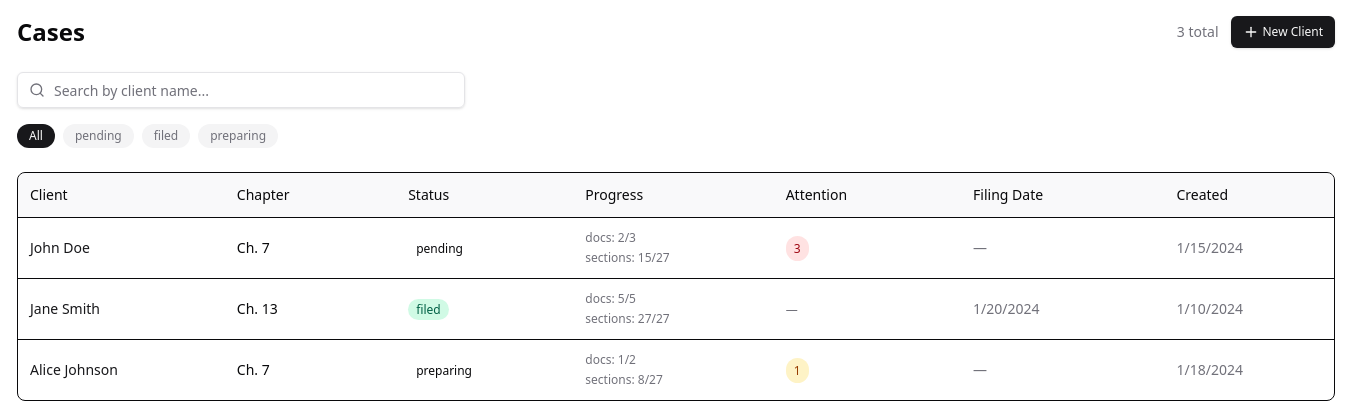
Test case: StaffDashboard › should combine search and filtering
expect the link "John Doe" is shown: met, box [30,238,90,257]
// Search for "J"
In the field labelled "Search by client name...": x=241, y=90 [17,72,465,108], type "J"
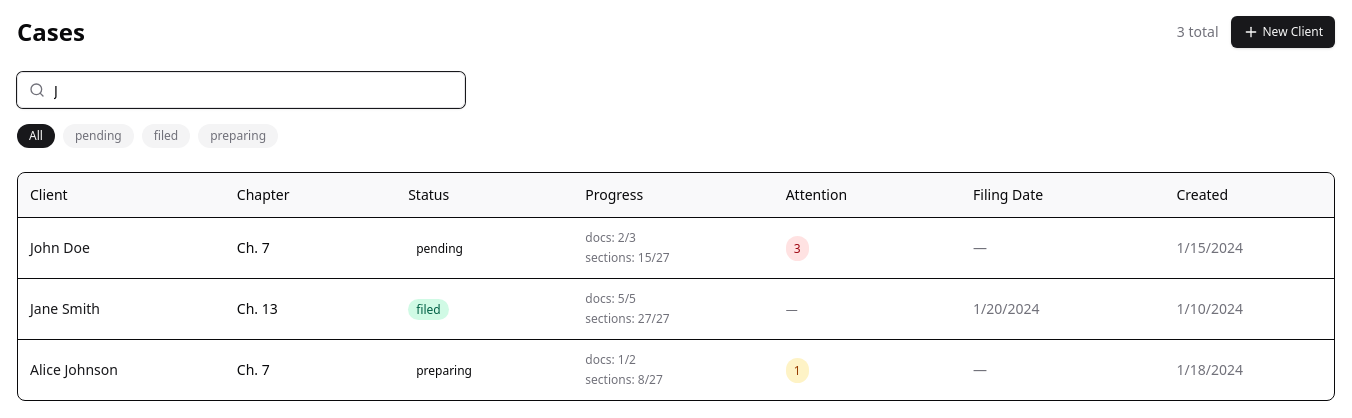
expect the link "John Doe" is shown: met, box [30,238,90,257]
expect the link "Jane Smith" is shown: met, box [30,299,100,318]
Click the button "filed": x=166, y=136 [142,124,190,148]
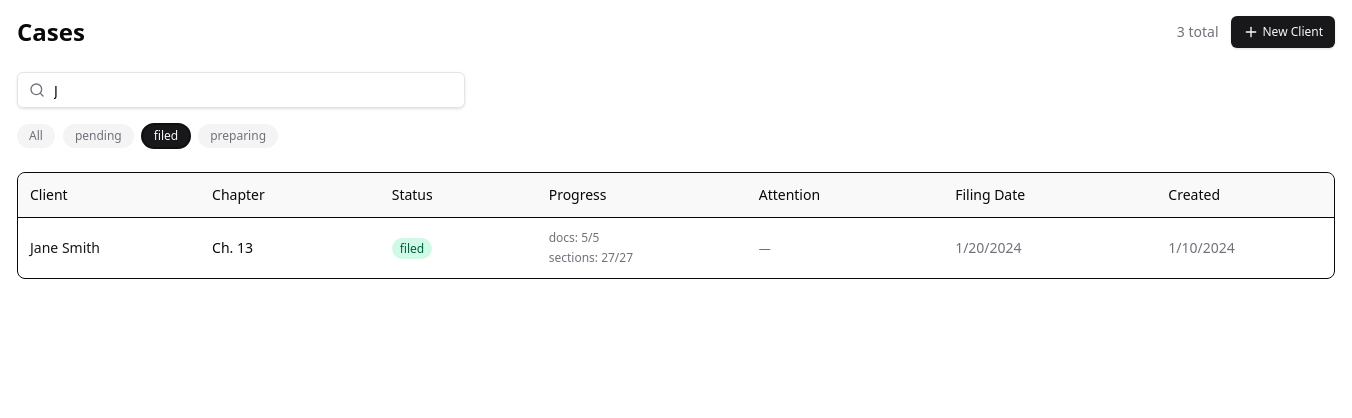
expect the link "Jane Smith" is shown: met, box [30,238,100,257]
expect the link "John Doe" is gone: met
expect the link "Alice Johnson" is gone: met
